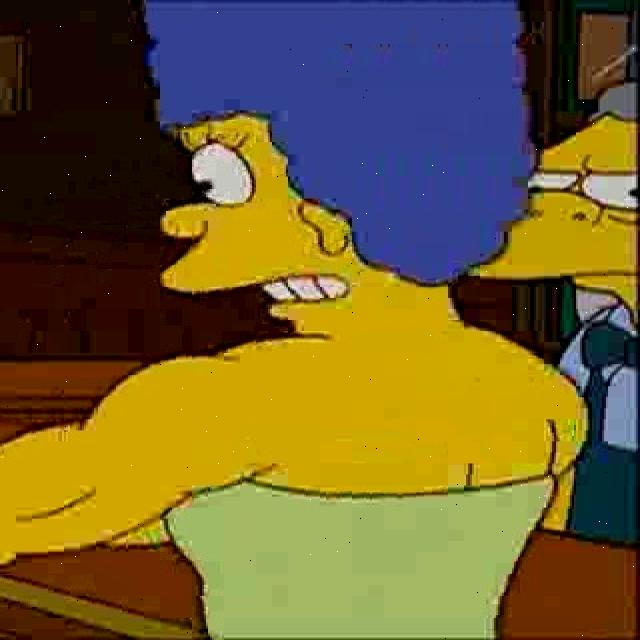Marge Simpson: (142, 0, 538, 349)
